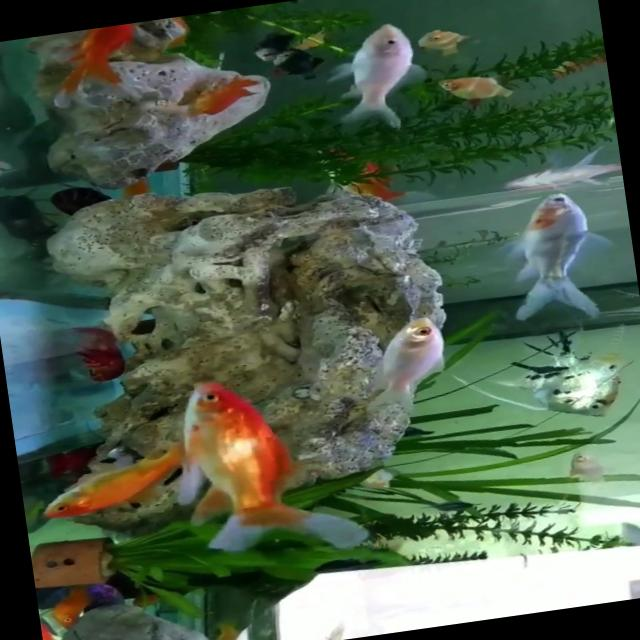GoldFish: (156, 363, 329, 583), (488, 180, 620, 344), (21, 437, 202, 532), (315, 14, 432, 144), (348, 304, 469, 420)
